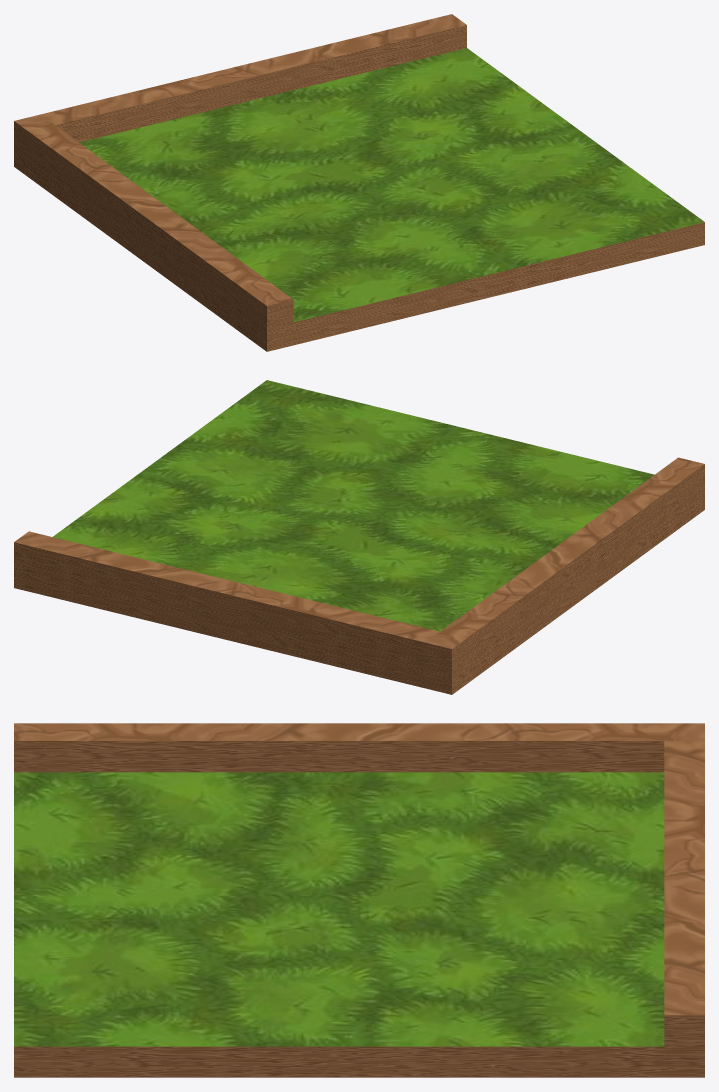
Rendered from Surface_2Sides.fbx.
3 views of the same model, one above another, from view 1: azimuth 30°, elevation 25°; view 2: azimuth 150°, elevation 25°; view 3: azimuth 270°, elevation 25° (orthographic). The views are drawn at different scales.
Parts seen in each view (by area): view 1: Surface_2Sides; view 2: Surface_2Sides; view 3: Surface_2Sides.
Boxes of the visible parts, x1,y1,x2,y2 form: Surface_2Sides: (14,14,704,351); Surface_2Sides: (14,380,704,694); Surface_2Sides: (14,723,704,1077).
Size of the model in its own units: 8 by 0.8 by 8.
